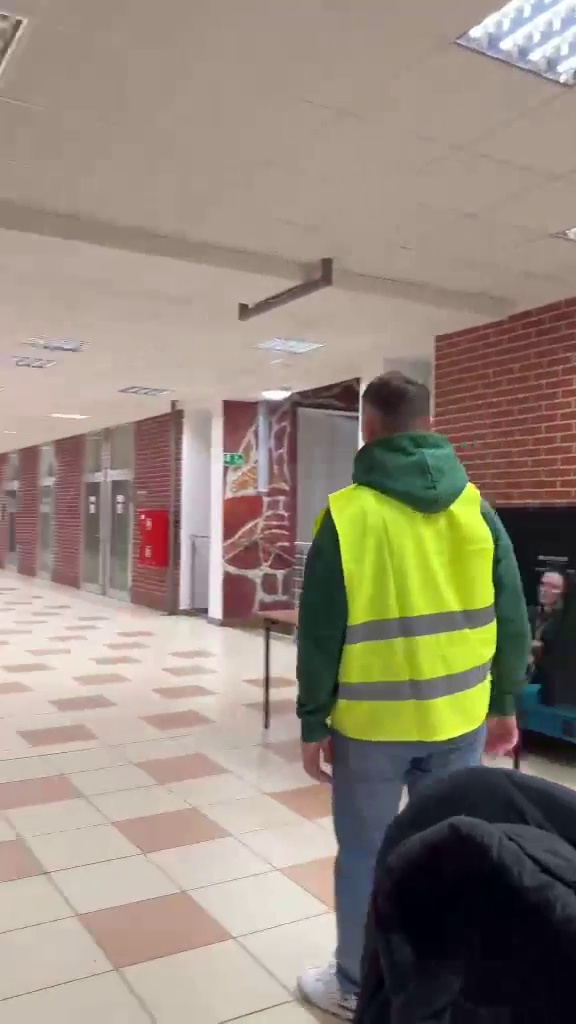vest: (293, 356, 534, 992)
